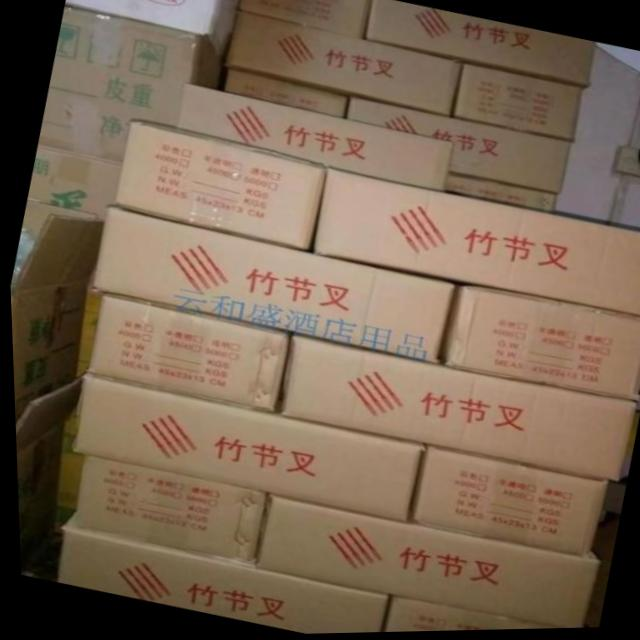box: (95, 202, 455, 366), (275, 331, 638, 487), (66, 372, 422, 523), (308, 166, 640, 317), (245, 494, 592, 631), (47, 508, 391, 635), (36, 2, 225, 166), (177, 84, 448, 191), (116, 117, 327, 253), (84, 289, 292, 416), (219, 8, 461, 115), (439, 281, 640, 402), (348, 93, 570, 196), (406, 449, 608, 559), (8, 200, 107, 423), (360, 0, 596, 88), (70, 455, 260, 564), (12, 377, 75, 576), (450, 62, 583, 142), (29, 146, 121, 221), (221, 66, 349, 118), (377, 596, 552, 634), (436, 170, 556, 215), (240, 0, 371, 41)
